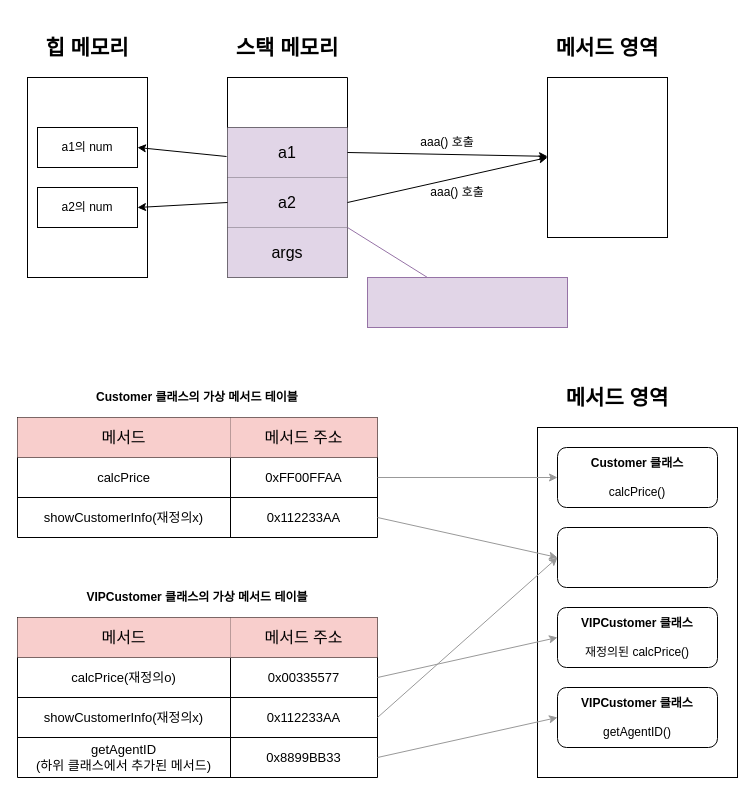
Some shapes in this 755 by 795 pixel diagram are drawn without their labels. The box of each missing label's shape, as (x1, y1, x2, y2) in pixels:
aaa() 메서드 영역: (546, 76, 668, 238)
Customer 클래스 showCustomerInfo(): (556, 526, 718, 588)
main() 함수의 지역 변수: (366, 276, 568, 328)
